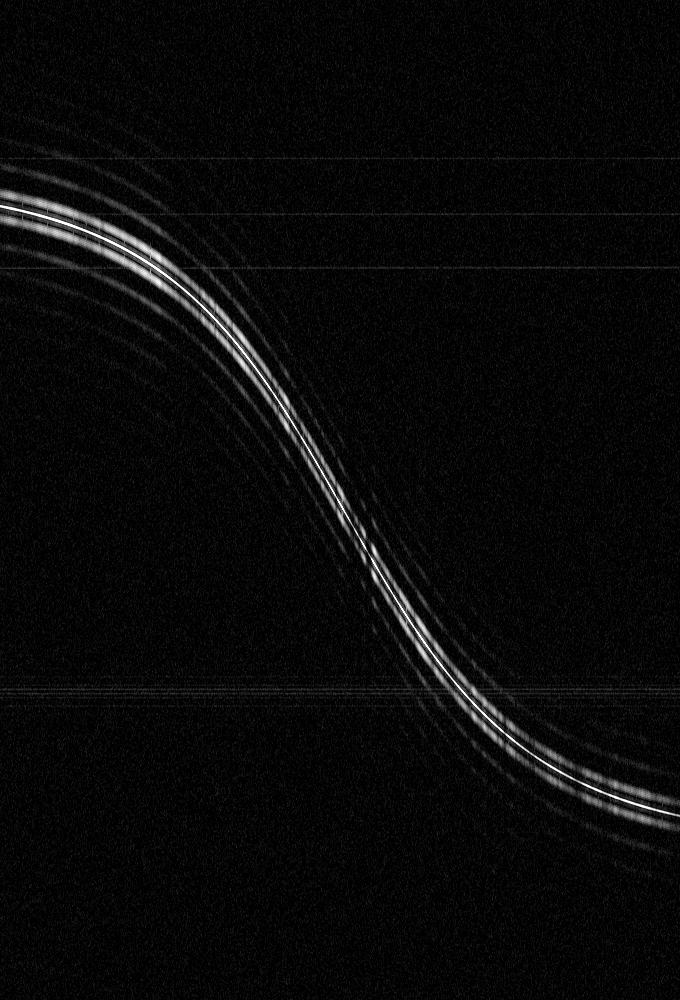signal: (0, 0, 679, 999)
